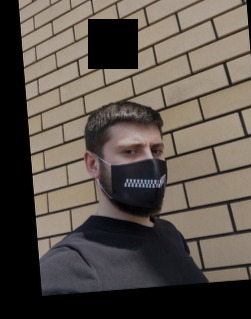with_mask: (108, 133, 168, 216)
